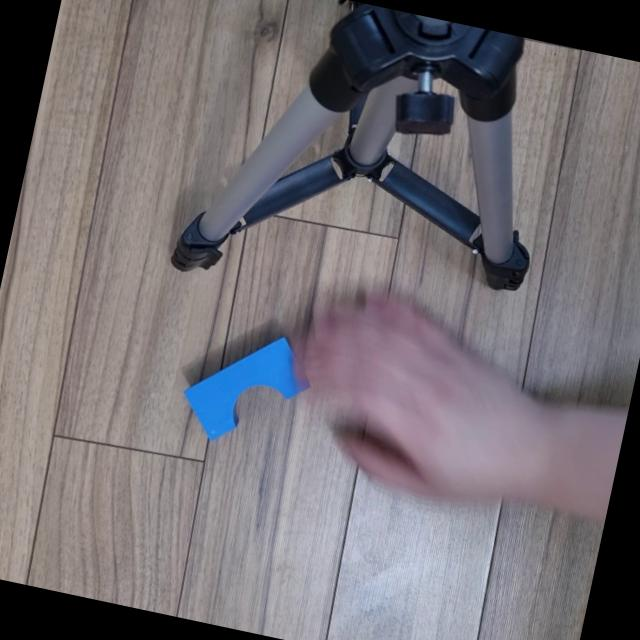block: (175, 316, 311, 454)
hand: (260, 269, 562, 539)
